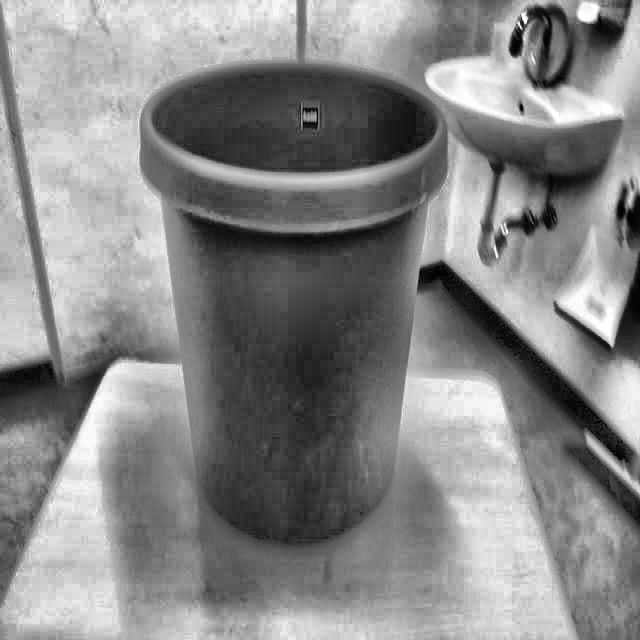Dustbin: (127, 30, 456, 572)
